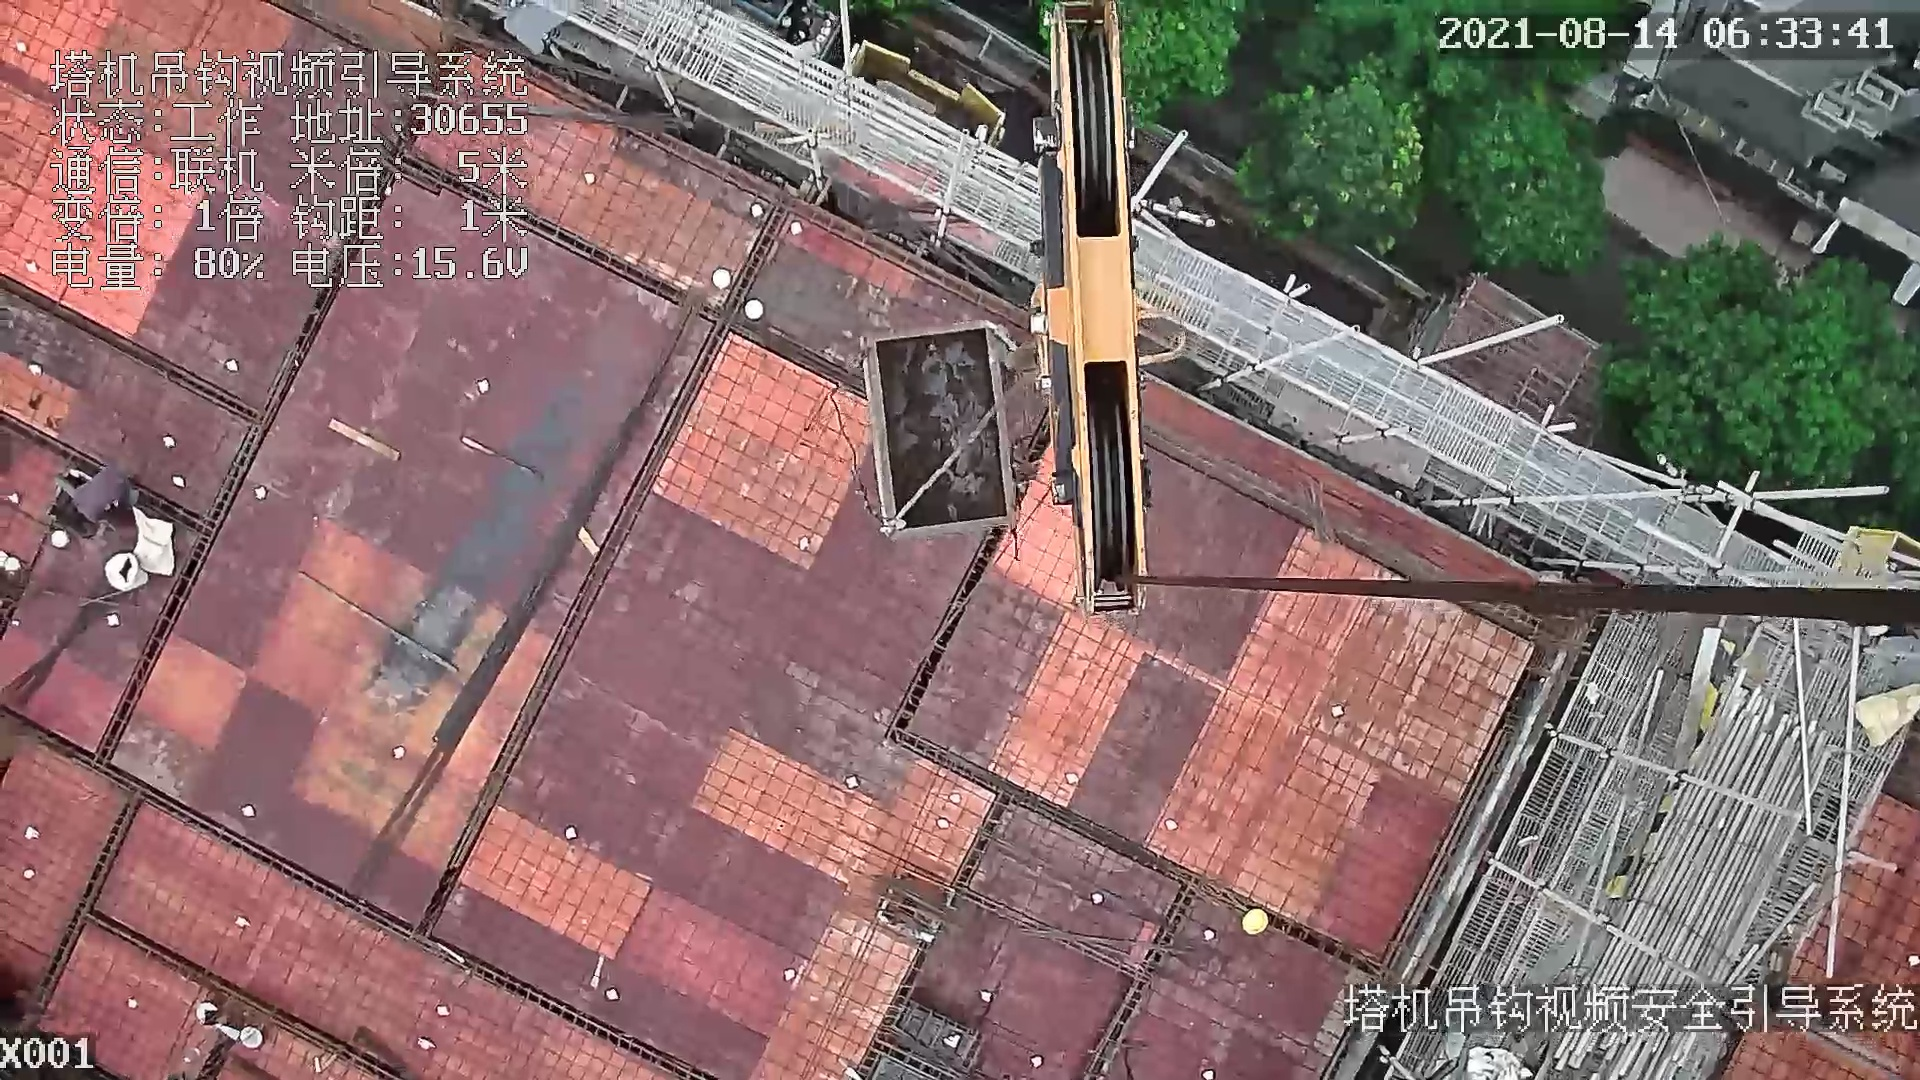helmet: (1241, 910, 1276, 942)
hook: (1014, 1, 1156, 617)
hopper: (847, 304, 1038, 550)
person: (55, 468, 141, 528)
scaffold: (1605, 660, 1814, 1071)
